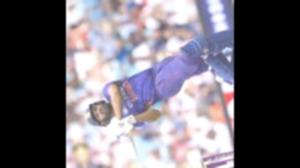batsman: (75, 24, 234, 143)
